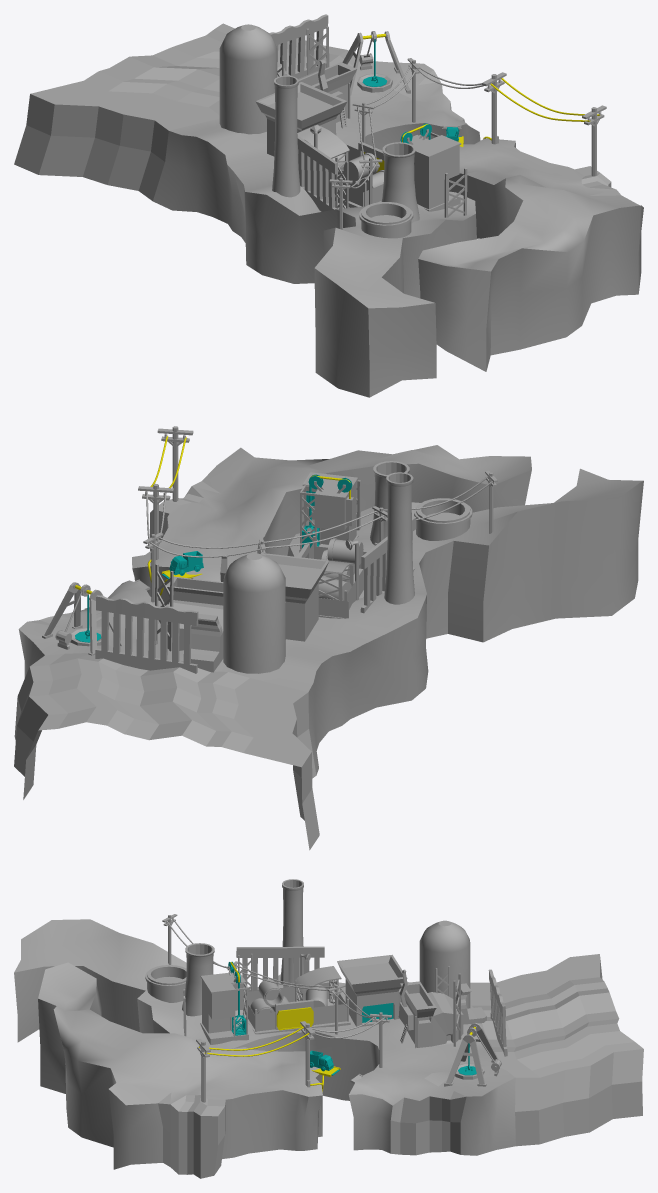
The model's file is FactoryOutdoor.fbx.
The picture shows the model from 3 angles, top to bottom: view 1: azimuth 30°, elevation 25°; view 2: azimuth 150°, elevation 25°; view 3: azimuth 270°, elevation 25°; orthographic projection. The views are drawn at different scales.
Parts seen in each view (by area): view 1: pPlane2, pPlane1, pCylinder44, factoryhouse, pCylinder43, LabBody, pCylinder41, pCube243, pCube244, pCylinder46, pCube241, pCube237 (+2 smaller); view 2: pPlane2, pPlane1, pCylinder44, factoryhouse, pCube244, pCylinder43, LabBody, pCylinder46, pCube243, pCylinder41, pCube330, WellLiftStand1 (+5 smaller); view 3: pPlane2, pPlane1, factoryhouse, pCylinder44, LabBody, pCube243, pCylinder43, pCylinder41, pCylinder46, pCube244, WellLiftStand1, sheild (+6 smaller).
Part boxes in pixels (<box>): pPlane2: <box>14,23,480,397</box>; pPlane1: <box>418,138,643,371</box>; pCylinder44: <box>219,24,277,134</box>; factoryhouse: <box>255,59,356,156</box>; pCylinder43: <box>272,75,300,197</box>; LabBody: <box>400,135,461,209</box>; pCylinder41: <box>381,142,419,223</box>; pCube243: <box>297,135,337,211</box>; pCube244: <box>269,14,328,78</box>; pCylinder46: <box>359,202,413,238</box>; pCube241: <box>297,124,349,158</box>; pCube237: <box>444,168,467,217</box>; pPlane2: <box>14,468,643,850</box>; pPlane1: <box>132,445,531,604</box>; pCylinder44: <box>223,553,285,673</box>; factoryhouse: <box>166,553,329,672</box>; pCube244: <box>95,595,198,673</box>; pCylinder43: <box>384,472,414,604</box>; LabBody: <box>302,472,358,544</box>; pCylinder46: <box>414,498,472,540</box>; pCube243: <box>360,516,416,613</box>; pCylinder41: <box>370,461,409,544</box>; pCube330: <box>157,426,193,501</box>; WellLiftStand1: <box>42,582,82,638</box>; pPlane2: <box>14,919,643,1155</box>; pPlane1: <box>38,962,324,1178</box>; factoryhouse: <box>337,954,486,1047</box>; pCylinder44: <box>419,920,470,1008</box>; LabBody: <box>200,971,245,1033</box>; pCube243: <box>236,946,324,991</box>; pCylinder43: <box>280,879,303,985</box>; pCylinder41: <box>182,943,214,1016</box>; pCylinder46: <box>145,965,186,1002</box>; pCube244: <box>488,969,507,1056</box>; WellLiftStand1: <box>444,1034,486,1086</box>; sheild: <box>276,1007,313,1030</box>.
Size of the model in its own units: 98.62 by 51.48 by 165.
